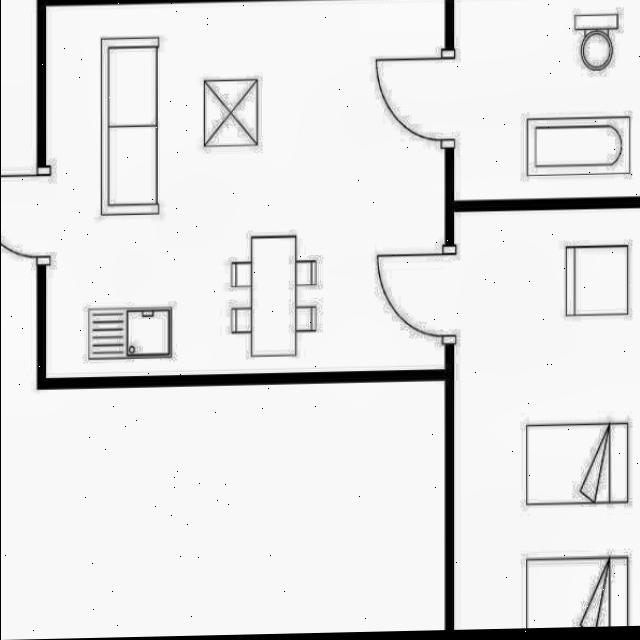room: (45, 0, 444, 378), (453, 208, 640, 630), (453, 0, 640, 201)
